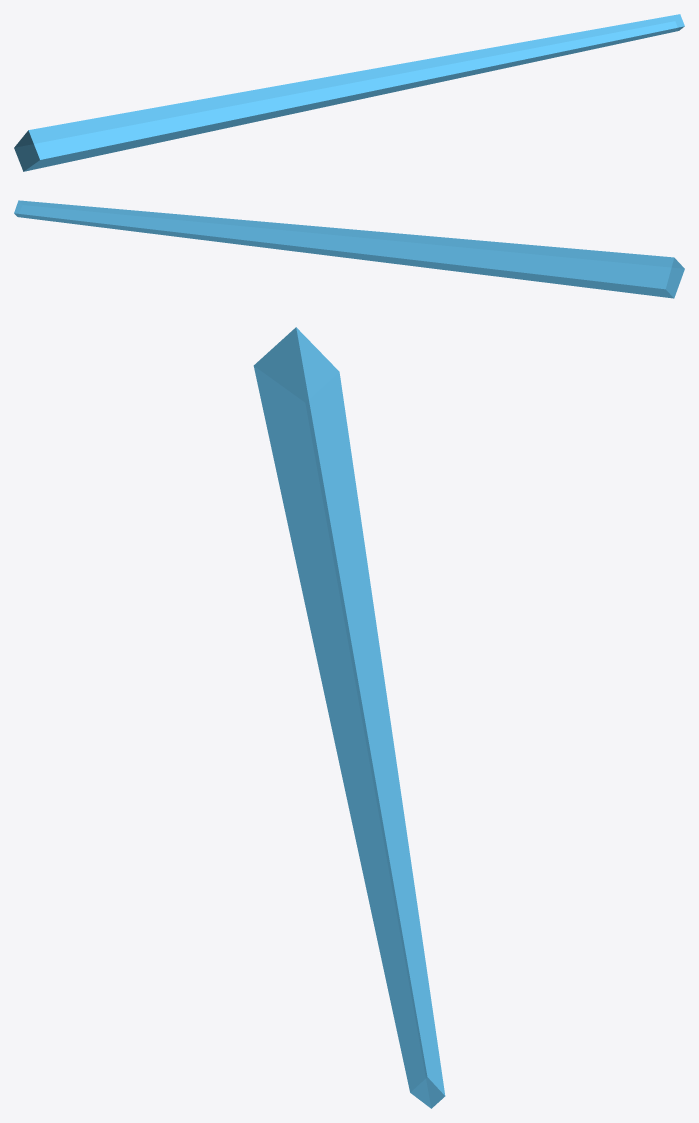
The model's file is Event_420604493_HErechit_11.fbx.
The picture shows the model from 3 angles, top to bottom: view 1: azimuth 30°, elevation 25°; view 2: azimuth 150°, elevation 25°; view 3: azimuth 270°, elevation 25°; orthographic projection. The views are drawn at different scales.
Parts seen in each view (by area): view 1: Model; view 2: Model; view 3: Model.
Part boxes in pixels (x1,y1,x2,y2): Model: [14, 14, 684, 171]; Model: [14, 200, 684, 298]; Model: [253, 327, 445, 1108].
Bounding box in the file's own units: 14.81 × 1.97 × 1.97.
